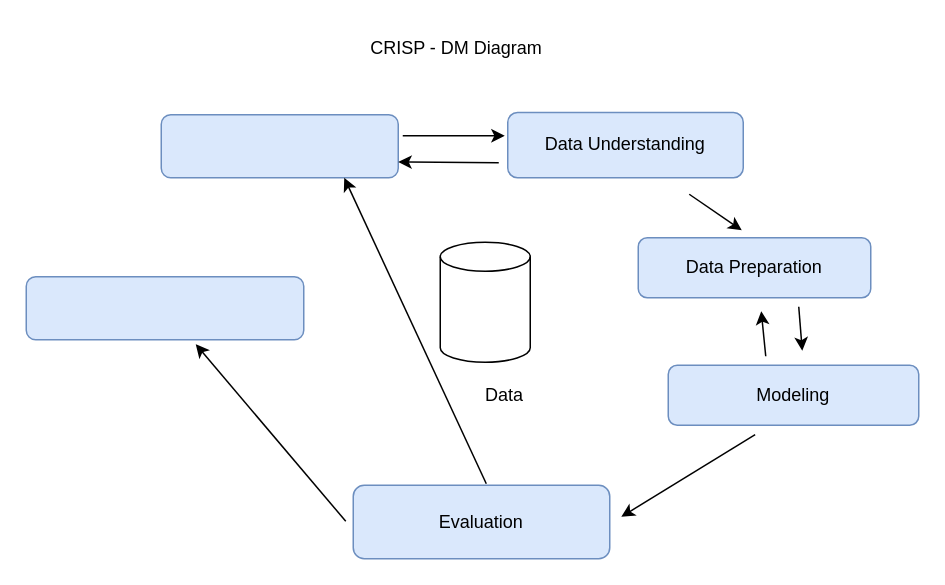
Some shapes in this 945 by 585 pixel diagram are drawn without their labels. The shapes that lost their labels are listed below. From the top down, each one's centre as x and y in pixels, then its label:
the point at 279,145: Business Understanding
the point at 164,307: Deployment
